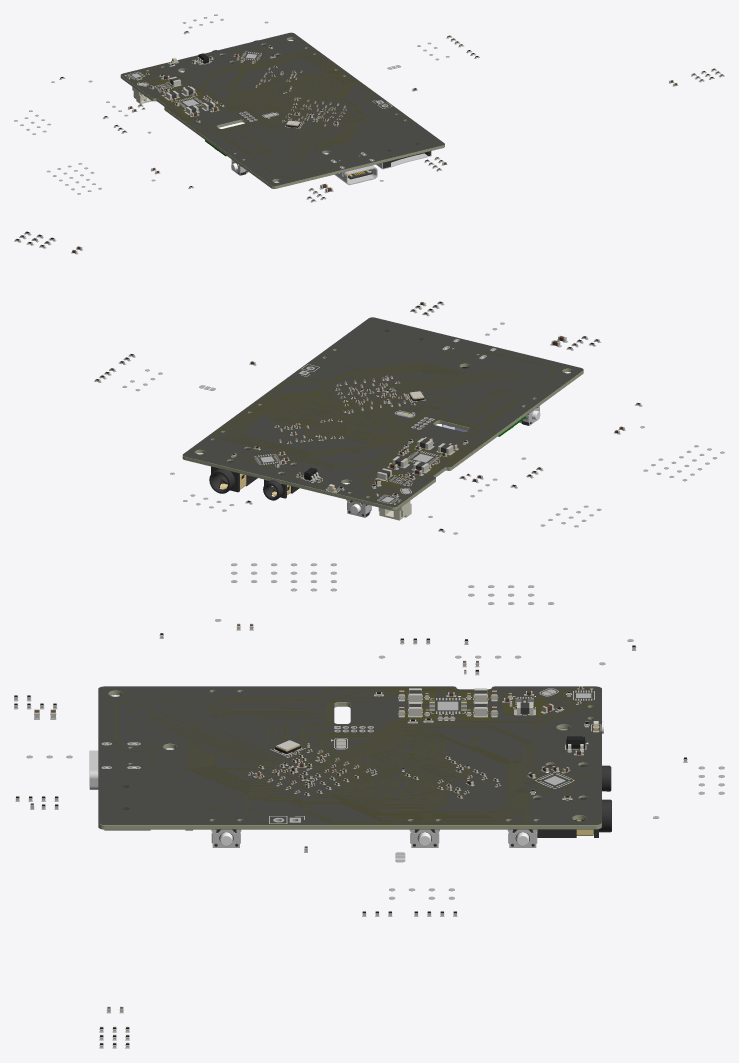
File: board.glb
3 views of the same model, one above another, from view 1: azimuth 30°, elevation 25°; view 2: azimuth 150°, elevation 25°; view 3: azimuth 270°, elevation 25° (orthographic). The views are drawn at different scales.
Parts seen in each view (by area): view 1: board_soldermask, board_PCB, board_pad, USB-C_SMD-TYPE-C-31-M-12, TF-SMD_L14.8-W14.5-H1.9-P1.1; view 2: board_soldermask, board_PCB, board_pad, Same_Sky_SJ2-35894D-SMT-TR, board_copper, AUDIO-SMD_PJ-242_1; view 3: board_soldermask, board_PCB, board_pad, board_copper, Same_Sky_SJ2-35894D-SMT-TR.
Boxes of the visible parts, <box> form: board_soldermask: <box>121,32,444,186</box>; board_PCB: <box>120,33,444,188</box>; board_pad: <box>14,14,724,202</box>; USB-C_SMD-TYPE-C-31-M-12: <box>332,153,377,185</box>; TF-SMD_L14.8-W14.5-H1.9-P1.1: <box>376,151,431,169</box>; board_soldermask: <box>183,317,583,507</box>; board_PCB: <box>182,318,583,510</box>; board_pad: <box>14,233,724,534</box>; Same_Sky_SJ2-35894D-SMT-TR: <box>209,448,257,493</box>; board_copper: <box>250,352,544,503</box>; AUDIO-SMD_PJ-242_1: <box>263,464,299,500</box>; board_soldermask: <box>98,686,601,824</box>; board_PCB: <box>98,687,601,829</box>; board_pad: <box>14,563,724,1048</box>; board_copper: <box>131,688,594,822</box>; Same_Sky_SJ2-35894D-SMT-TR: <box>534,797,611,837</box>.
Size of the model in its own units: 0.1759 by 0.00719 by 0.1089.
